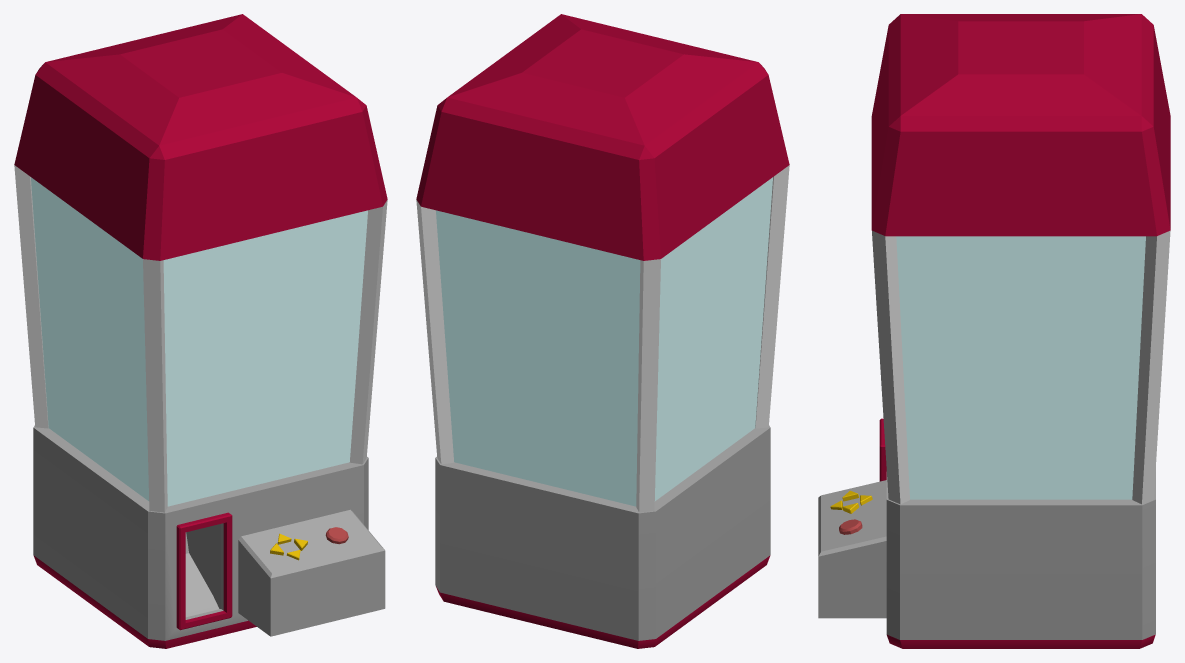
File: catcher.fbx
3 views of the same model, side by side, from view 1: azimuth 30°, elevation 25°; view 2: azimuth 150°, elevation 25°; view 3: azimuth 270°, elevation 25° (orthographic). The views are drawn at different scales.
Visible parts, largest first — view 1: machine_top, machine_glass, machine_bottom, machine_control, machine_tunnel; view 2: machine_top, machine_glass, machine_bottom; view 3: machine_top, machine_glass, machine_bottom, machine_control.
Boxes of the visible parts, x1,y1,x2,y2 form: machine_top: (14,14,387,512); machine_glass: (31,177,367,506); machine_bottom: (33,425,368,648); machine_control: (238,509,385,636); machine_tunnel: (185,524,220,617); machine_top: (416,14,789,512); machine_glass: (436,177,772,506); machine_bottom: (435,425,770,648); machine_top: (871,14,1170,504); machine_glass: (896,236,1145,499); machine_bottom: (879,418,1155,648); machine_control: (818,480,886,618).
Size of the model in its own units: 70.78 by 143 by 83.44.
